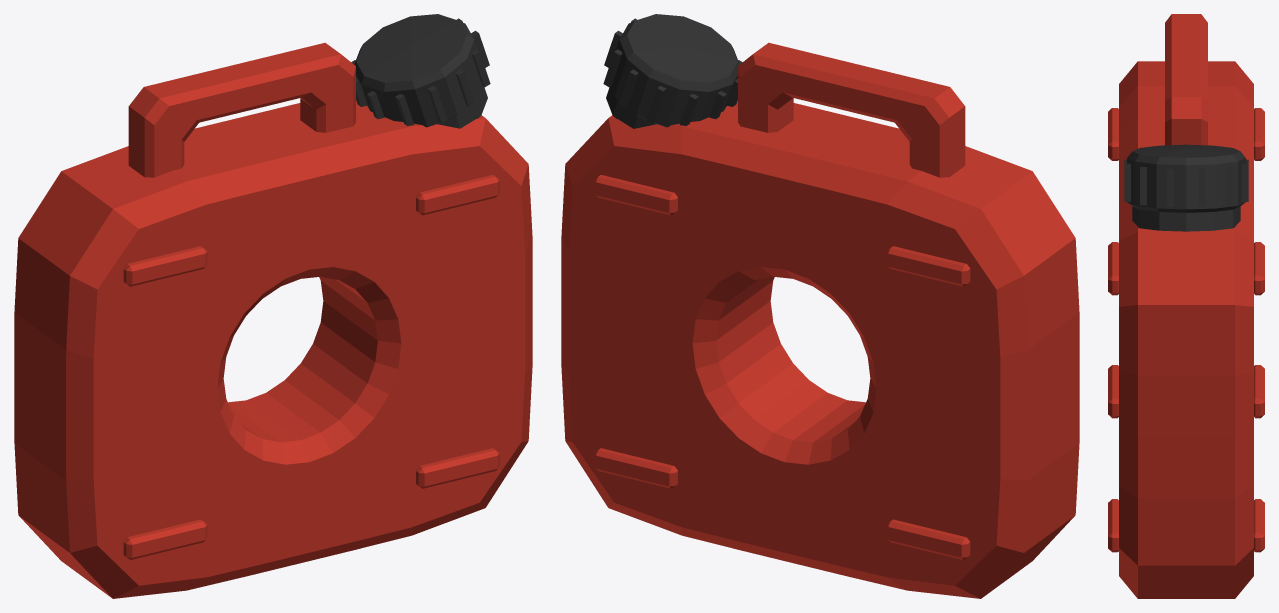
File: item-emergency-gas.glb
The picture shows the model from 3 angles, left to right: view 1: azimuth 30°, elevation 25°; view 2: azimuth 150°, elevation 25°; view 3: azimuth 270°, elevation 25°; orthographic projection. The views are drawn at different scales.
Parts seen in each view (by area): view 1: emergencyGas; view 2: emergencyGas; view 3: emergencyGas.
Boxes of the visible parts, x1=… form: emergencyGas: x1=14, y1=14, x2=532, y2=598; emergencyGas: x1=561, y1=14, x2=1079, y2=598; emergencyGas: x1=1108, y1=14, x2=1264, y2=598.
Size of the model in its own units: 0.375 by 0.37 by 0.116.
